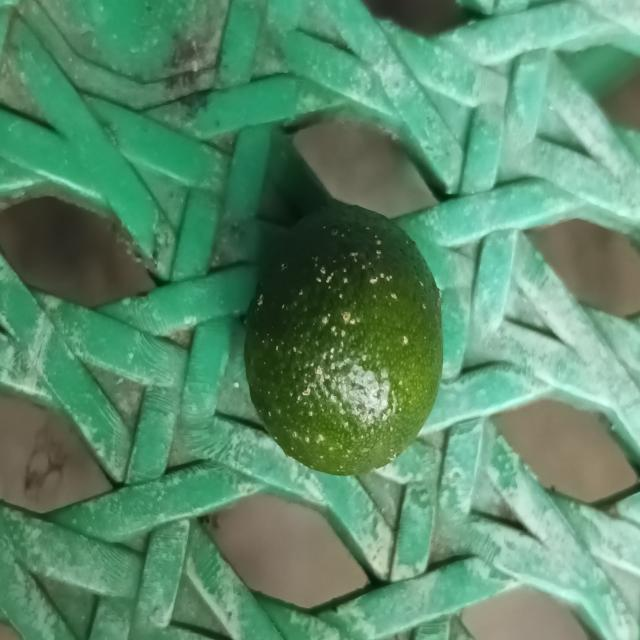scab: (251, 206, 450, 468)
